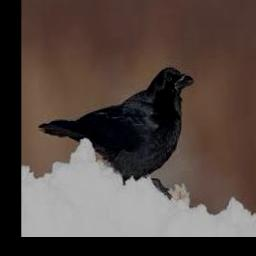Crow: (39, 67, 195, 203)
